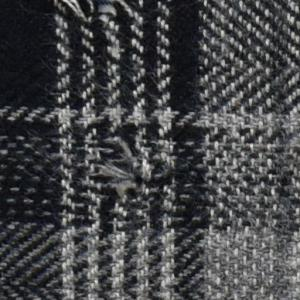Damage: (61, 125, 185, 223), (47, 1, 123, 38)
